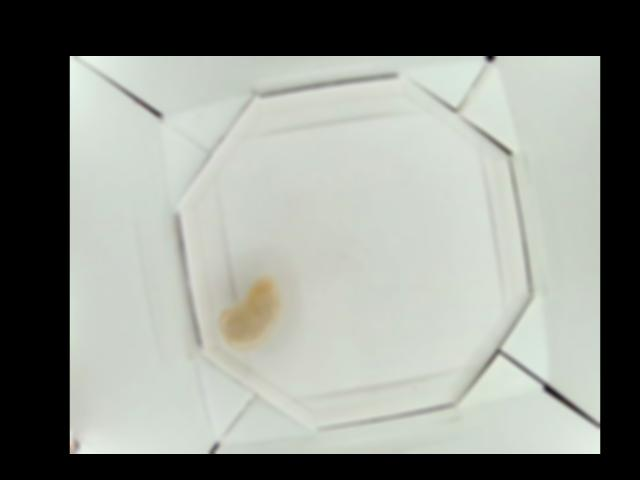Pebble: (218, 279, 276, 351)
